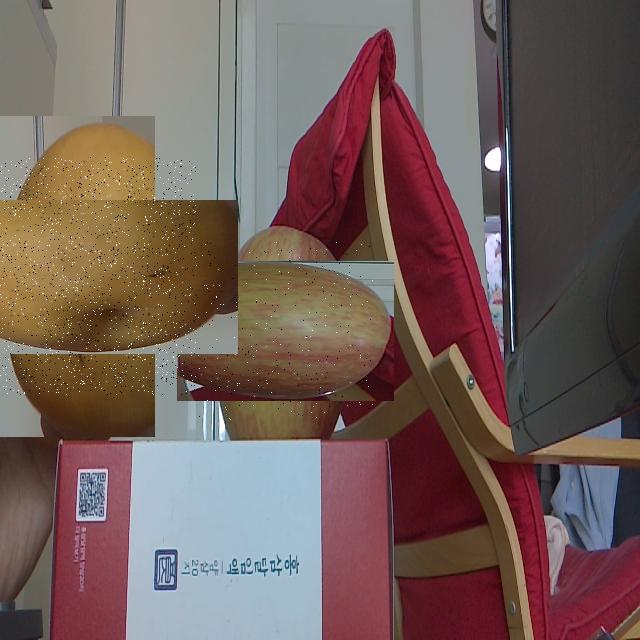apple: (196, 242, 374, 420)
pear: (0, 157, 196, 395)
